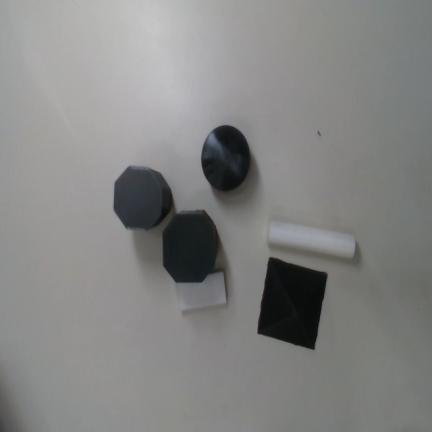Cilindro: (267, 220, 356, 260)
Esfera: (201, 125, 250, 191)
Paralelepipedo: (177, 271, 227, 317)
Piramide: (257, 257, 328, 351)
Prisma_hexagonal: (163, 210, 216, 283), (114, 166, 172, 229)
